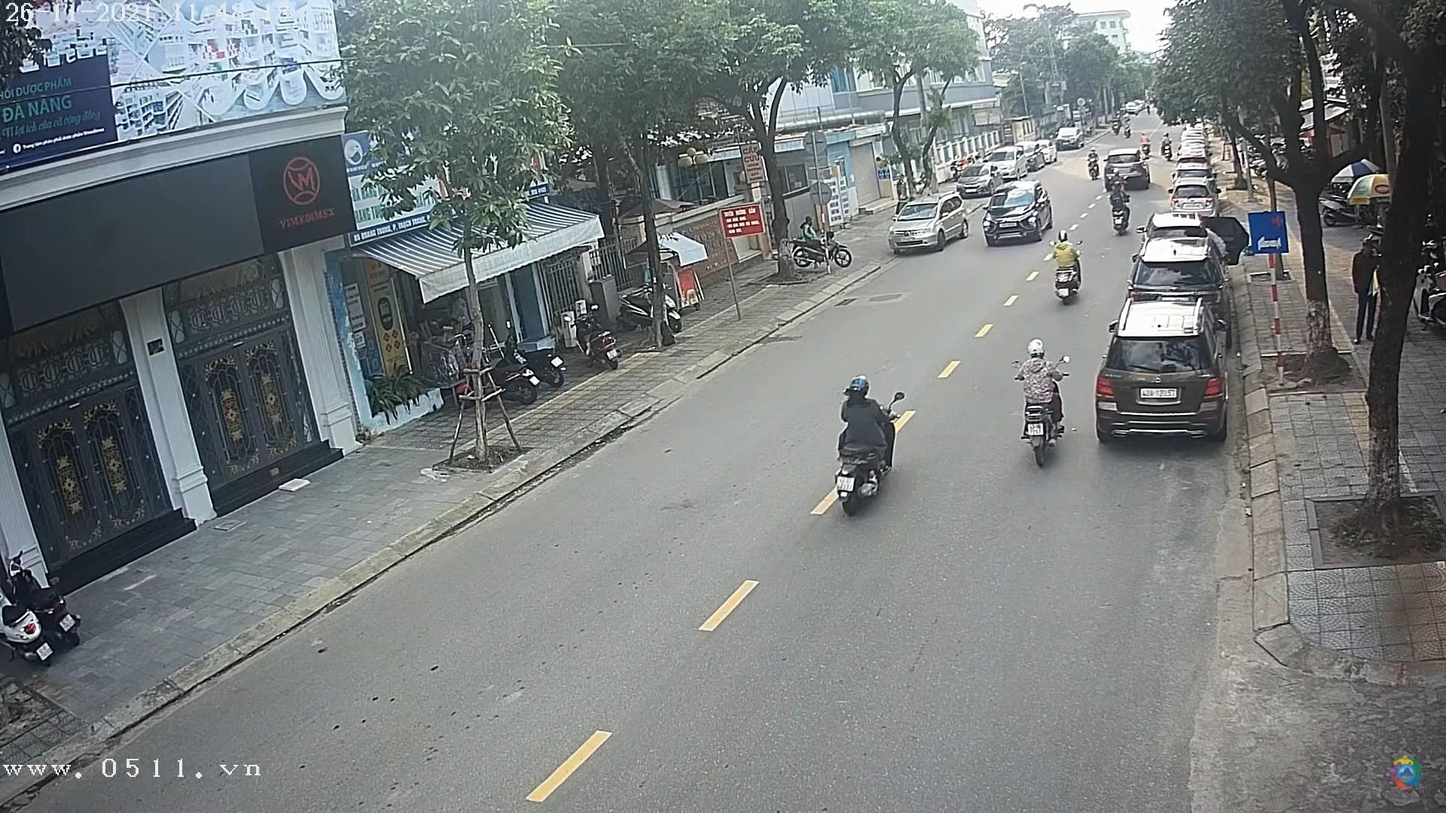car: (1098, 307, 1226, 443), (1132, 230, 1234, 292), (981, 179, 1054, 249), (889, 199, 962, 253), (956, 160, 1009, 195), (1170, 185, 1215, 213), (1057, 126, 1086, 149)
motorbike: (834, 415, 901, 520), (1021, 388, 1074, 472), (1048, 242, 1084, 304), (1109, 202, 1135, 241)
